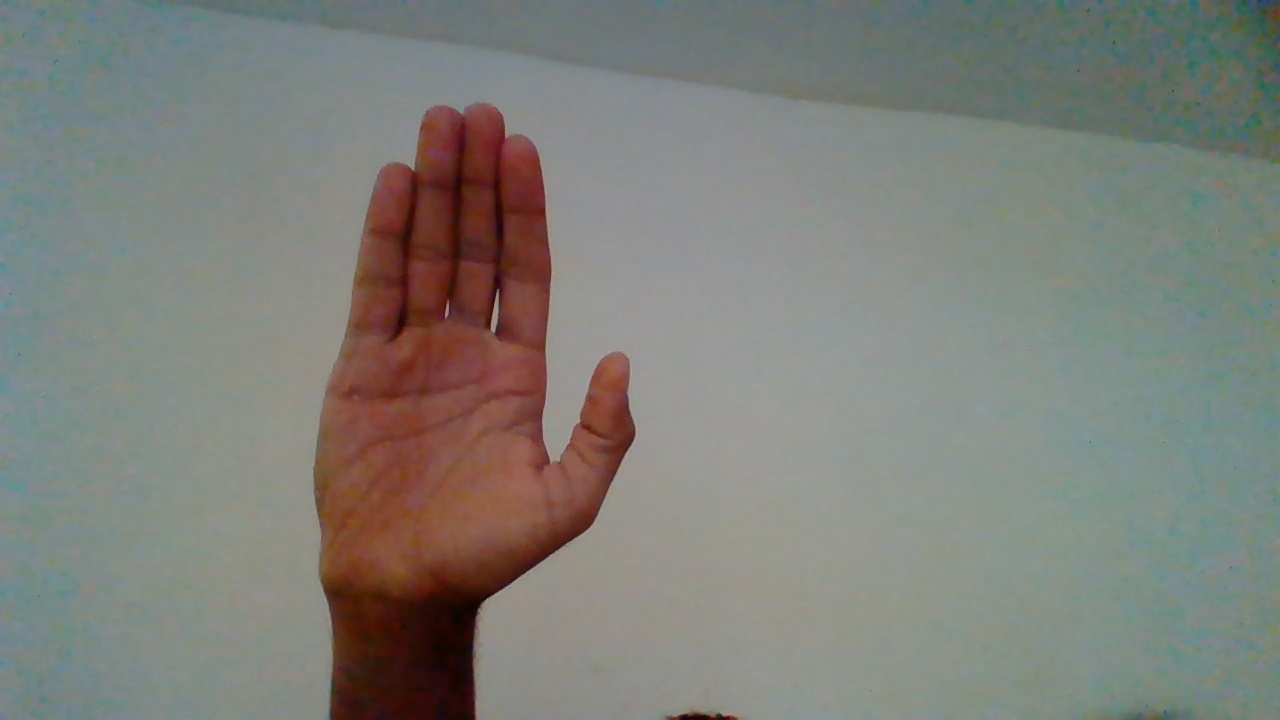ha: (313, 109, 640, 709)
